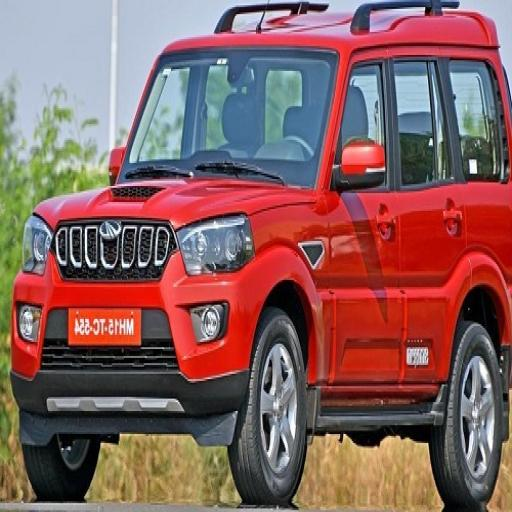License: (71, 304, 140, 345)
